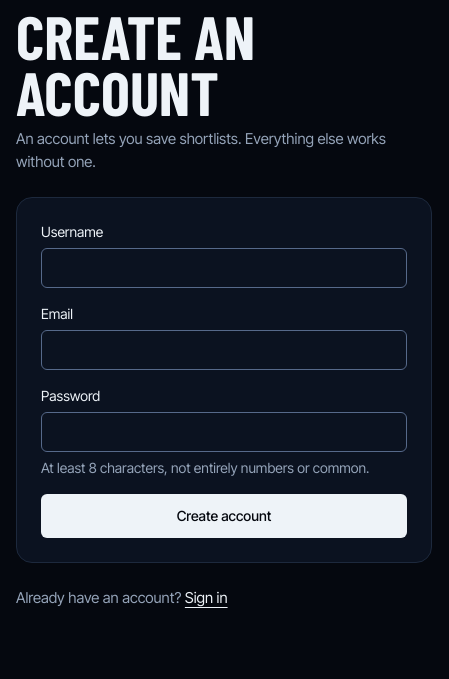
Test: AuthPage › shows server validation errors when signing up
This screenshot has width=449, height=679.
Type "fan" into the field labelled "Username". click: [224, 268]
box: [41,248,407,288]
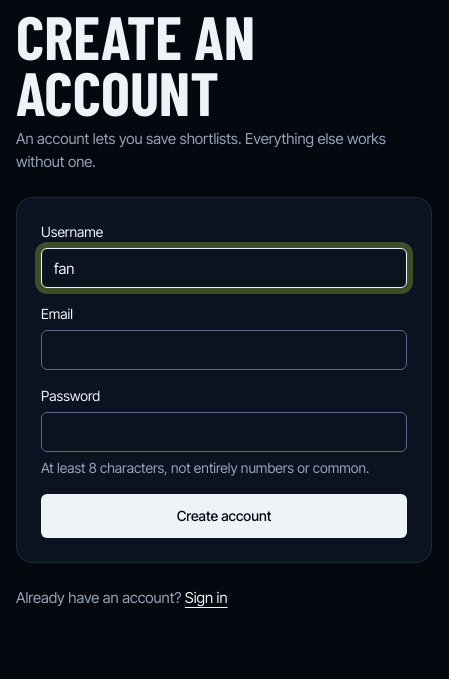
Type "fan@example.com" into the field labelled "Email". click: [224, 350]
box: [41,330,407,370]
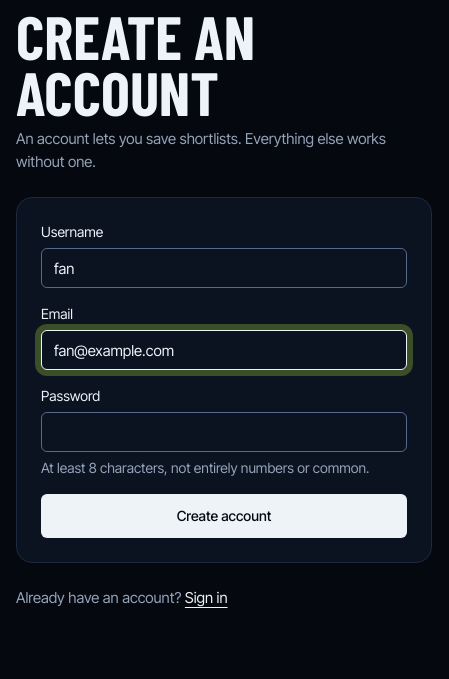
Type "password" into the password field labelled "Password". click: [224, 432]
box: [41,412,407,452]
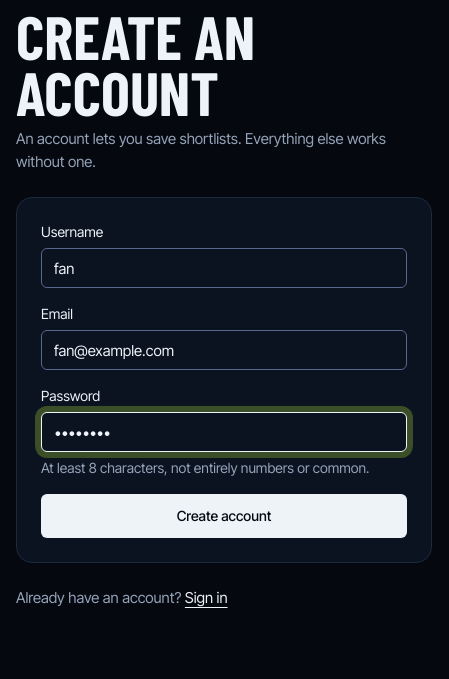
Click the button "Create account". click: [224, 516]
box: [41,494,407,538]
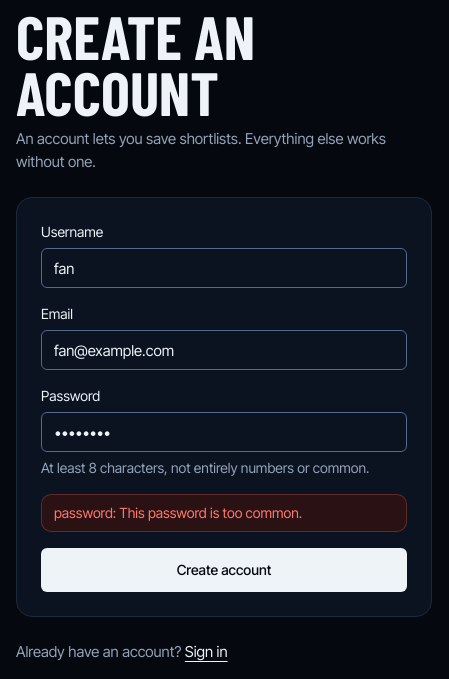
Now the message reads "password: This password is too common.", box [54,504,302,522]
